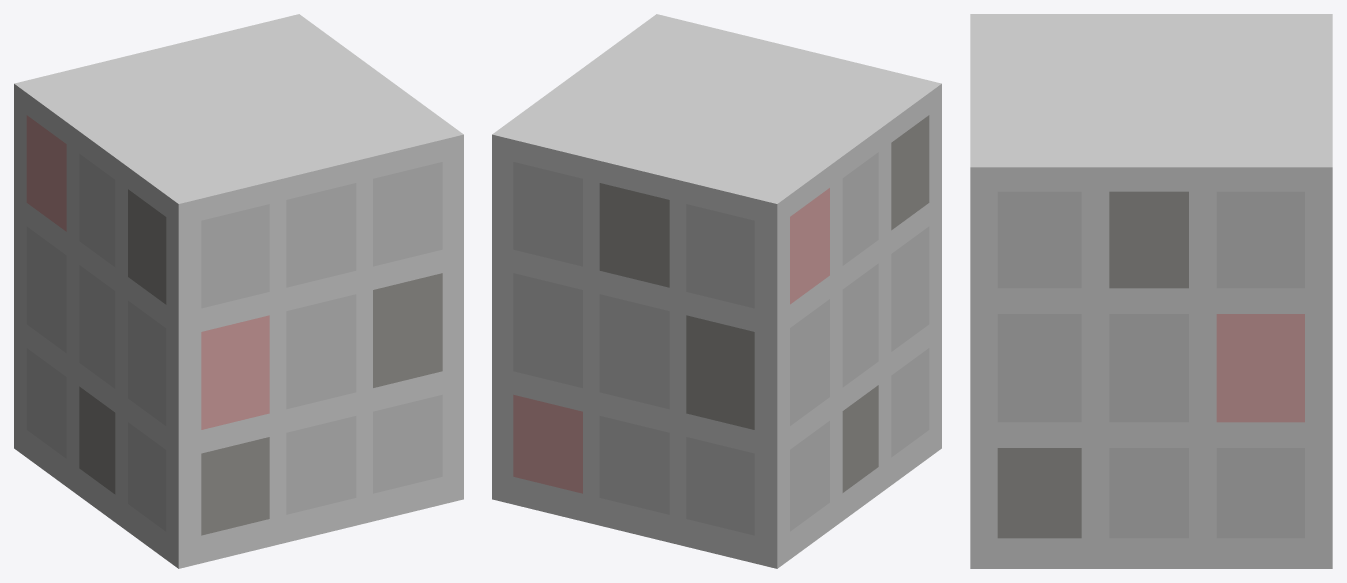
File: House.fbx
3 views of the same model, side by side, from view 1: azimuth 30°, elevation 25°; view 2: azimuth 150°, elevation 25°; view 3: azimuth 270°, elevation 25° (orthographic). The views are drawn at different scales.
Parts seen in each view (by area): view 1: House; view 2: House; view 3: House.
Part boxes in pixels (x1=…): House: x1=14, y1=14, x2=463, y2=568; House: x1=492, y1=14, x2=941, y2=568; House: x1=970, y1=14, x2=1332, y2=568.
Size of the model in its own units: 378 by 462 by 378.
